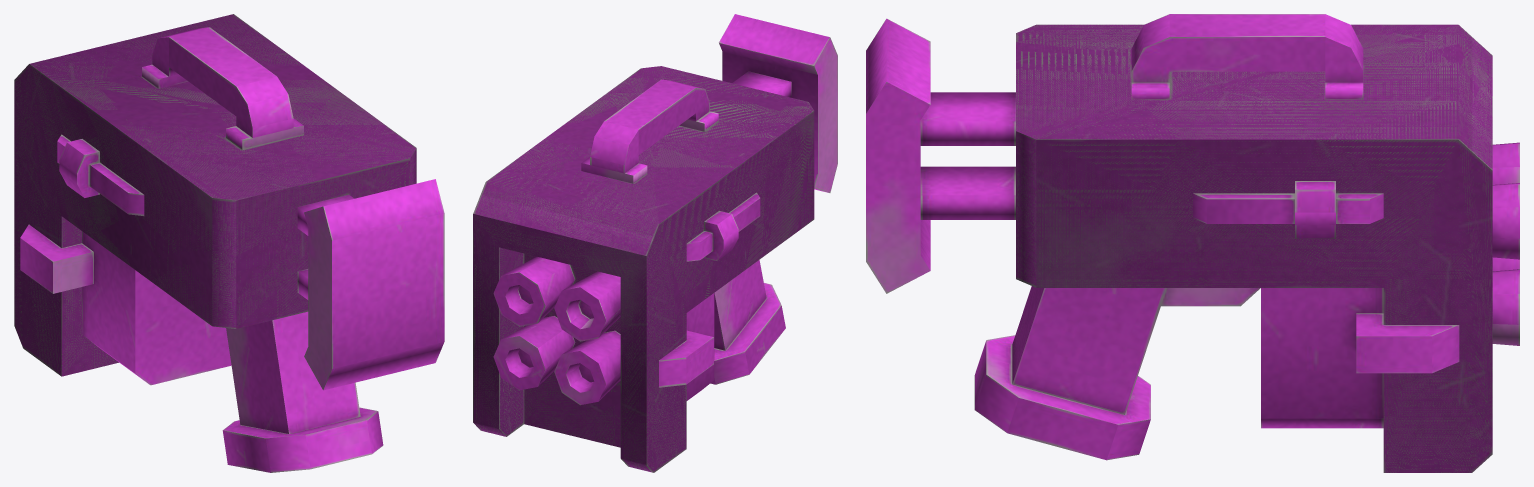
Rendered from blaster-o.glb.
3 views of the same model, side by side, from view 1: azimuth 30°, elevation 25°; view 2: azimuth 150°, elevation 25°; view 3: azimuth 270°, elevation 25° (orthographic). The views are drawn at different scales.
Visible parts, largest first — view 1: blaster-o; view 2: blaster-o; view 3: blaster-o.
Boxes of the visible parts, x1,y1,x2,y2 form: blaster-o: [14, 14, 444, 472]; blaster-o: [473, 14, 837, 472]; blaster-o: [866, 14, 1519, 472].
Size of the model in its own units: 0.245 by 0.3338 by 0.48.
Materials: 1 (1 with a texture image).
